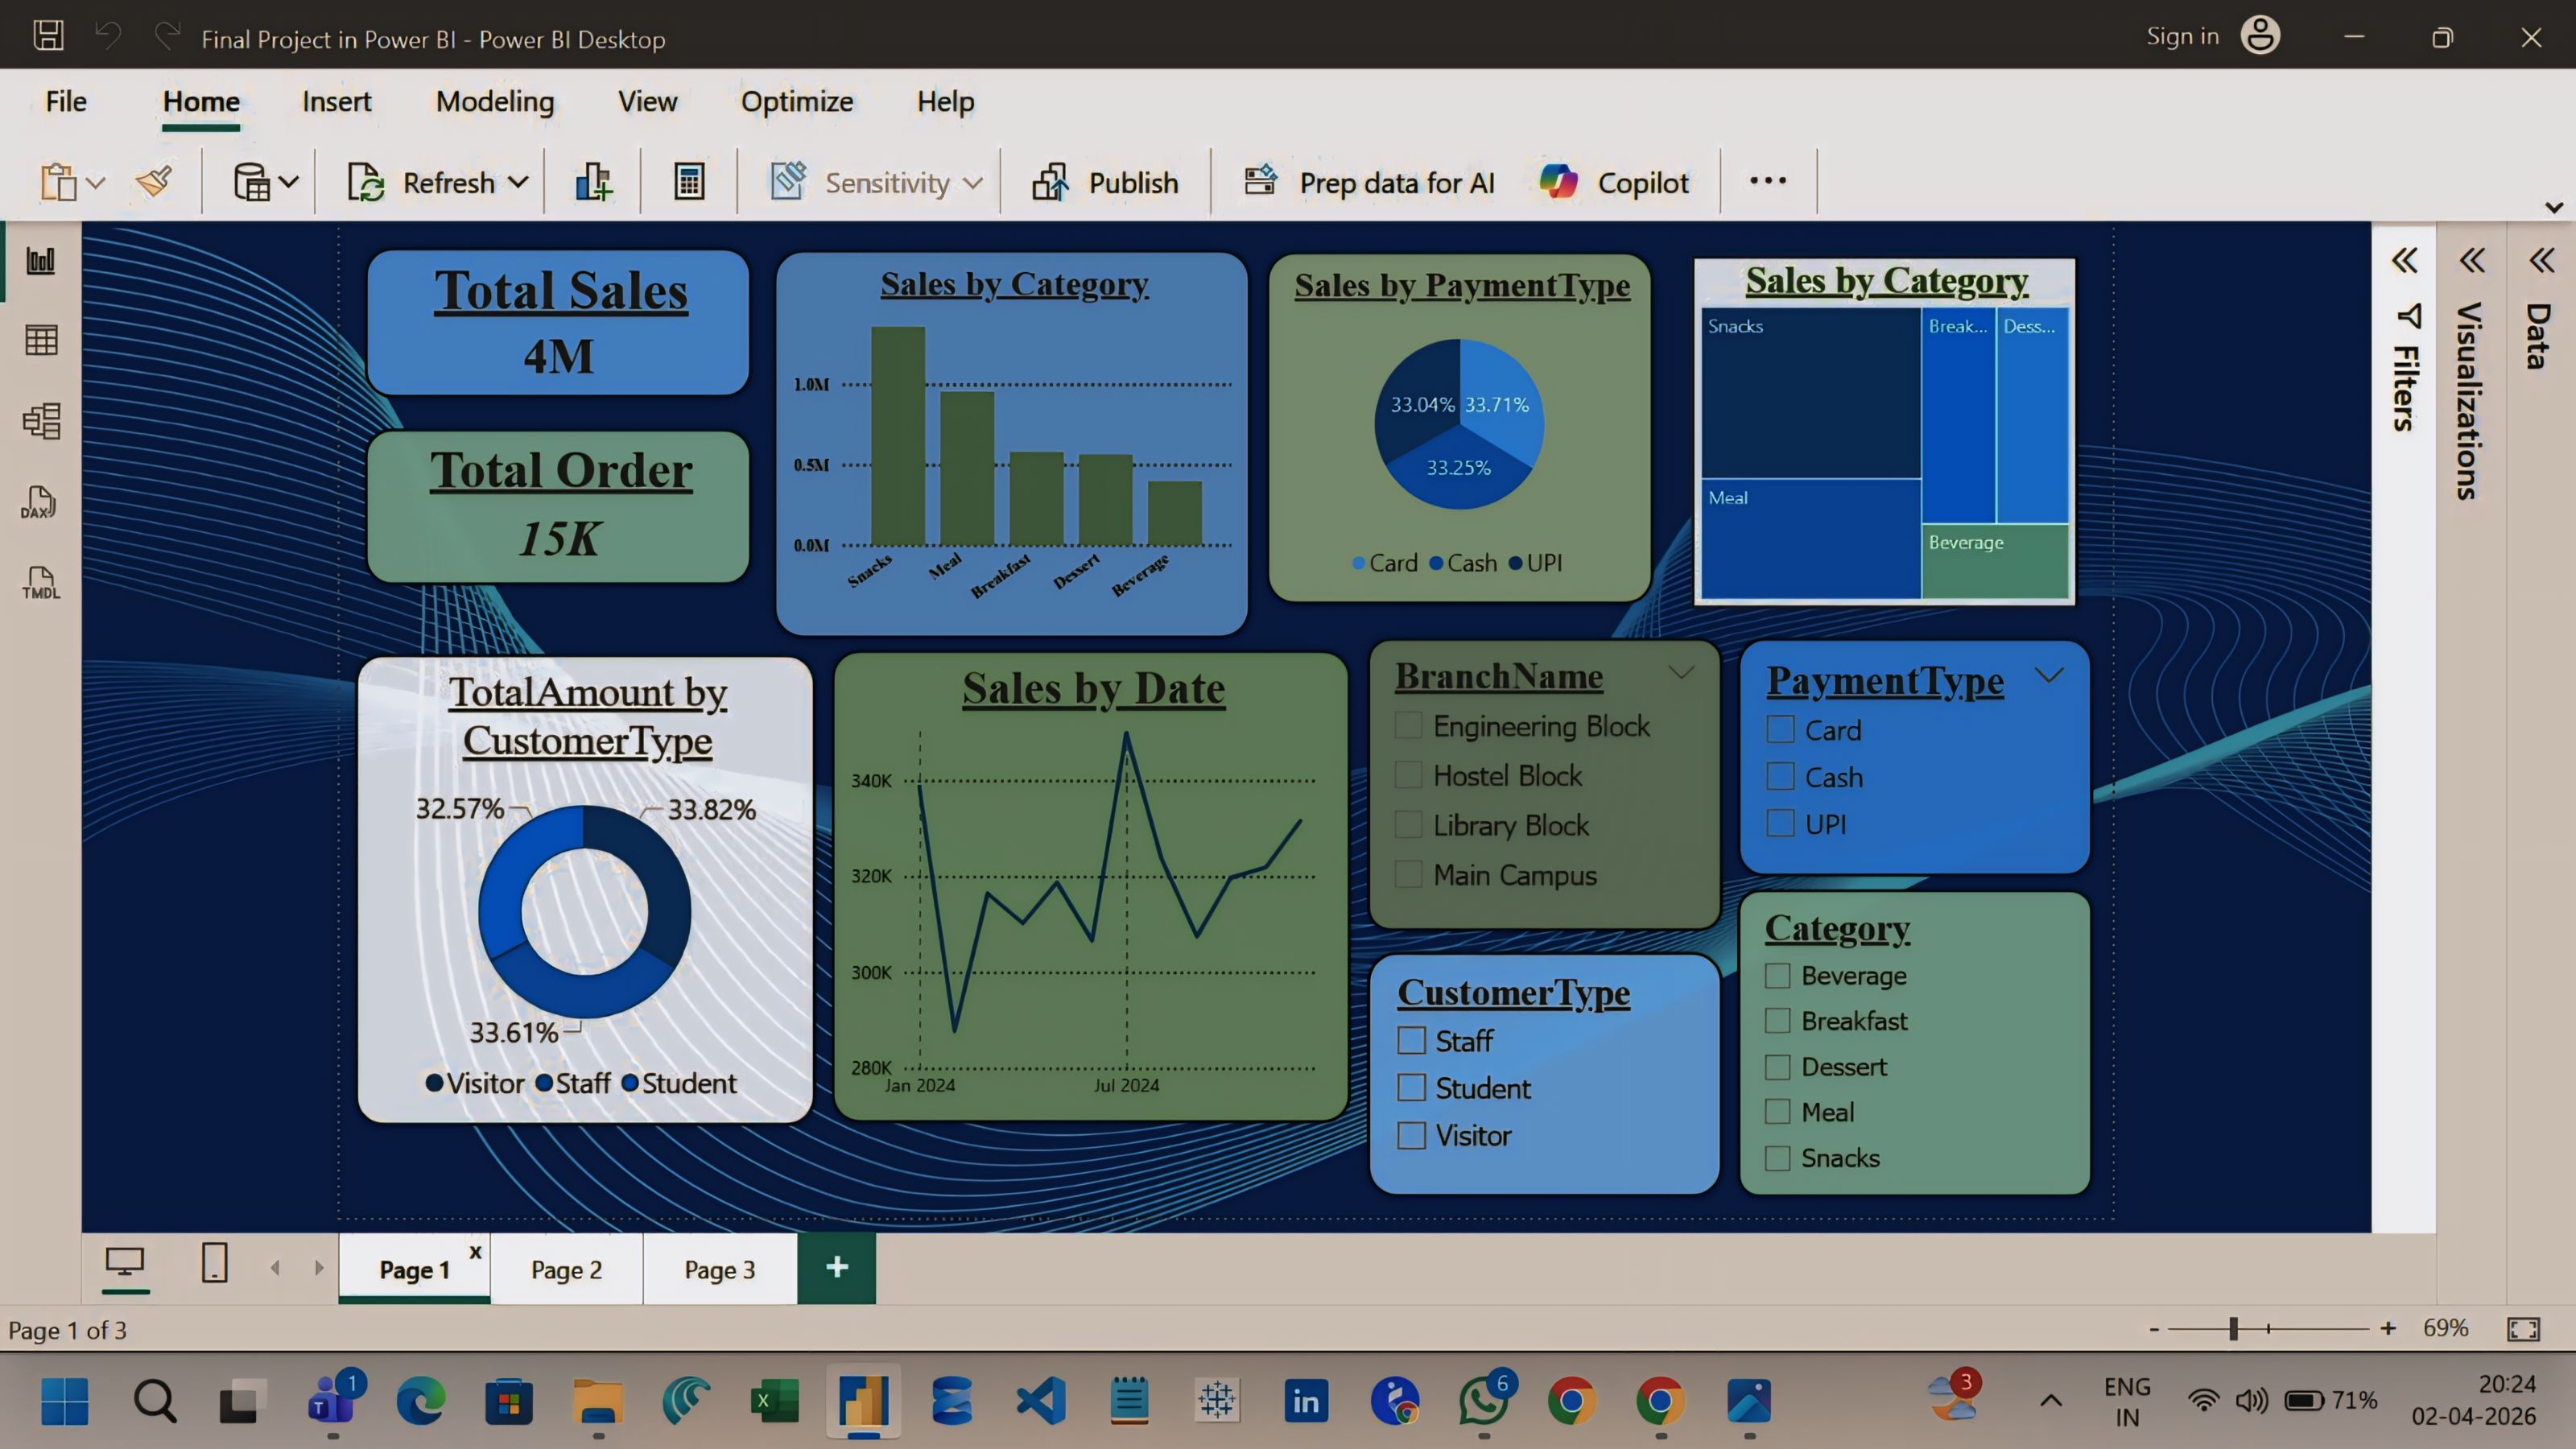

The page's visual inventory and layout, read from the dashboard file:
{"tool":"powerbi","page":{"name":"Page 1","canvas":[1280,720],"ordinal":0},"visuals":[{"type":"card","title":"Total Sales","fields":{"Values":["Fact_Sales.Total Sales"]},"box":[17.8,19.4,280.1,108.5],"z":0},{"type":"card","title":"Total Order","fields":{"Values":["Fact_Sales.Total Orders"]},"box":[17.8,150.6,280.1,113.3],"z":1000},{"type":"columnChart","title":" Sales by Category","fields":{"Category":["Dim_Items.Category"],"Y":["Fact_Sales.Total Sales"]},"box":[313.4,19.7,345.2,281.6],"z":2000},{"type":"lineChart","title":"Sales by Date","fields":{"Y":["Fact_Sales.Total Sales"],"Category":["Dim_Date.Date.Variation.Date Hierarchy.Year","Dim_Date.Date.Variation.Date Hierarchy.Month"]},"box":[355.8,310.4,375.5,342.2],"z":3000},{"type":"pieChart","title":" Sales by PaymentType","fields":{"Category":["Dim_Payment.PaymentType"],"Y":["Fact_Sales.Total Sales"]},"box":[670,21.7,280,255],"z":4000},{"type":"treemap","title":" Sales by Category","fields":{"Group":["Dim_Items.Category"],"Values":["Fact_Sales.Total Sales"]},"box":[976.7,25,280,255],"z":5000},{"type":"slicer","fields":{"Values":["Dim_Branch.BranchName"]},"box":[742,301.3,257.4,212],"z":6000},{"type":"slicer","fields":{"Values":["Dim_Payment.PaymentType"]},"box":[1010,301.3,257.4,172.6],"z":7000},{"type":"slicer","fields":{"Values":["Dim_Items.Category"]},"box":[1010,483,257.4,222.6],"z":8000},{"type":"slicer","fields":{"Values":["Fact_Sales.CustomerType"]},"box":[742,528.5,257.4,177.2],"z":9000},{"type":"donutChart","title":" TotalAmount by CustomerType","fields":{"Category":["Fact_Sales.CustomerType"],"Y":["Sum(Fact_Sales.TotalAmount)"]},"box":[10,313,333,341],"z":10000}]}

Visuals, with their boxes on the page's 1280x720 design canvas (x1, y1, x2, y2). These are canvas units, not pixel positions in the 2576x1449 screenshot, which may show the page scaled, cropped or inside an application window:
"Total Sales" card: <bbox>18, 19, 298, 128</bbox>
"Total Order" card: <bbox>18, 151, 298, 264</bbox>
" Sales by Category" columnChart: <bbox>313, 20, 659, 301</bbox>
"Sales by Date" lineChart: <bbox>356, 310, 731, 653</bbox>
" Sales by PaymentType" pieChart: <bbox>670, 22, 950, 277</bbox>
" Sales by Category" treemap: <bbox>977, 25, 1257, 280</bbox>
slicer - Dim_Branch.BranchName: <bbox>742, 301, 999, 513</bbox>
slicer - Dim_Payment.PaymentType: <bbox>1010, 301, 1267, 474</bbox>
slicer - Dim_Items.Category: <bbox>1010, 483, 1267, 706</bbox>
slicer - Fact_Sales.CustomerType: <bbox>742, 528, 999, 706</bbox>
" TotalAmount by CustomerType" donutChart: <bbox>10, 313, 343, 654</bbox>
